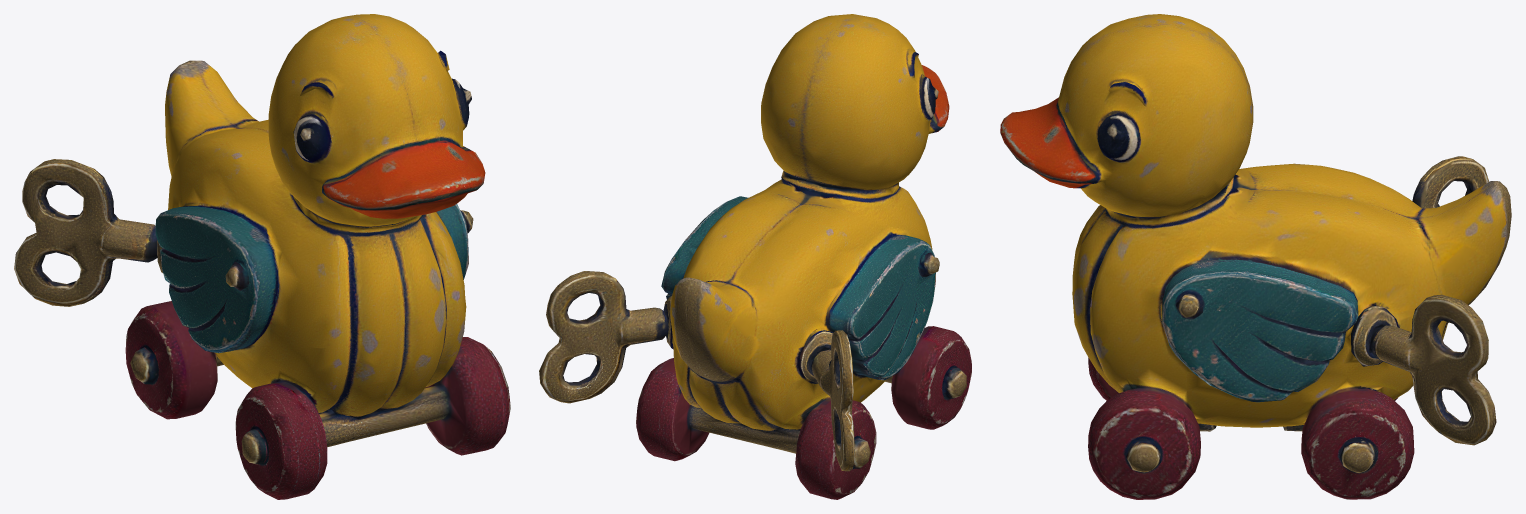
Rendered from WindUpDuck.fbx.
The picture shows the model from 3 angles, left to right: view 1: azimuth 30°, elevation 25°; view 2: azimuth 150°, elevation 25°; view 3: azimuth 270°, elevation 25°; orthographic projection. The views are drawn at different scales.
Parts seen in each view (by area): view 1: tripo_node_8509d6ed-6727-4572-8160-90045e2fb71e; view 2: tripo_node_8509d6ed-6727-4572-8160-90045e2fb71e; view 3: tripo_node_8509d6ed-6727-4572-8160-90045e2fb71e.
Part boxes in pixels (x1,y1,x2,y2): tripo_node_8509d6ed-6727-4572-8160-90045e2fb71e: [14, 14, 510, 499]; tripo_node_8509d6ed-6727-4572-8160-90045e2fb71e: [539, 14, 971, 499]; tripo_node_8509d6ed-6727-4572-8160-90045e2fb71e: [1000, 14, 1511, 499].
Bounding box in the file's own units: 78.94 × 92.38 × 100.
Materials: 1 (1 with a texture image).
